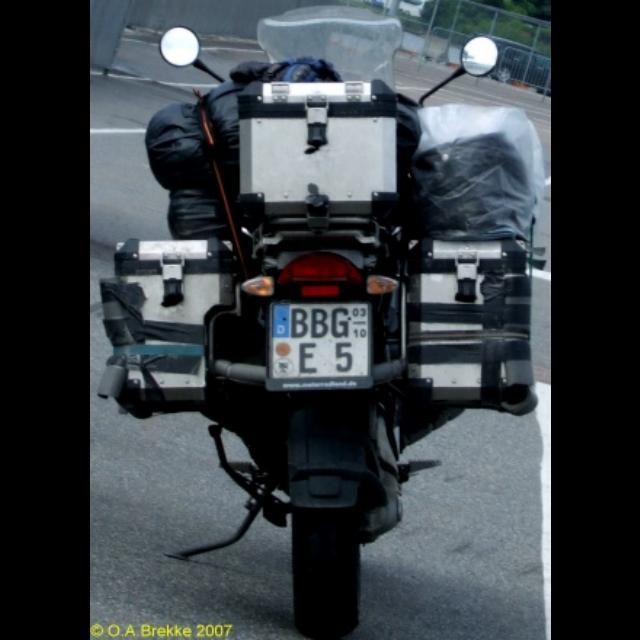license-plates: (268, 304, 372, 390)
